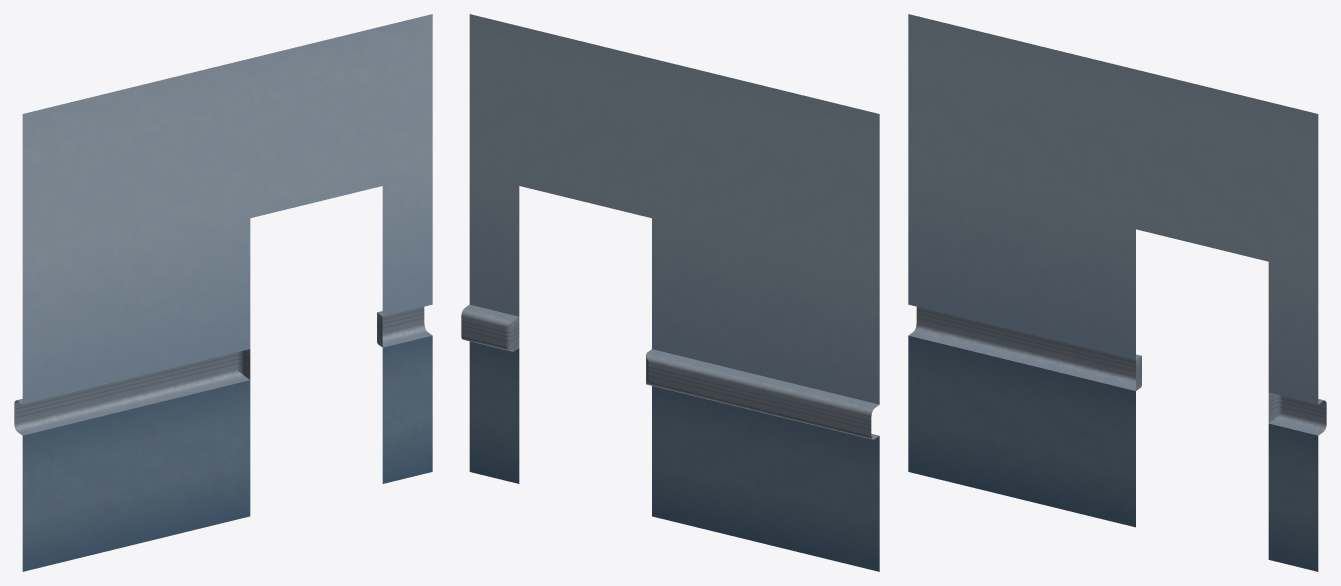
File: Lvl2_Wall_Door_1.fbx
The picture shows the model from 3 angles, left to right: view 1: azimuth 30°, elevation 25°; view 2: azimuth 150°, elevation 25°; view 3: azimuth 330°, elevation 25°; orthographic projection.
Visible parts, largest first — view 1: Lvl2_Wall_Door_1; view 2: Lvl2_Wall_Door_1; view 3: Lvl2_Wall_Door_1.
Boxes of the visible parts, x1,y1,x2,y2 form: Lvl2_Wall_Door_1: (14, 14, 432, 571); Lvl2_Wall_Door_1: (461, 14, 879, 571); Lvl2_Wall_Door_1: (908, 14, 1326, 571).
Bounding box in the file's own units: 375 × 400 × 13.01.
Materials: 1 (1 with a texture image).
